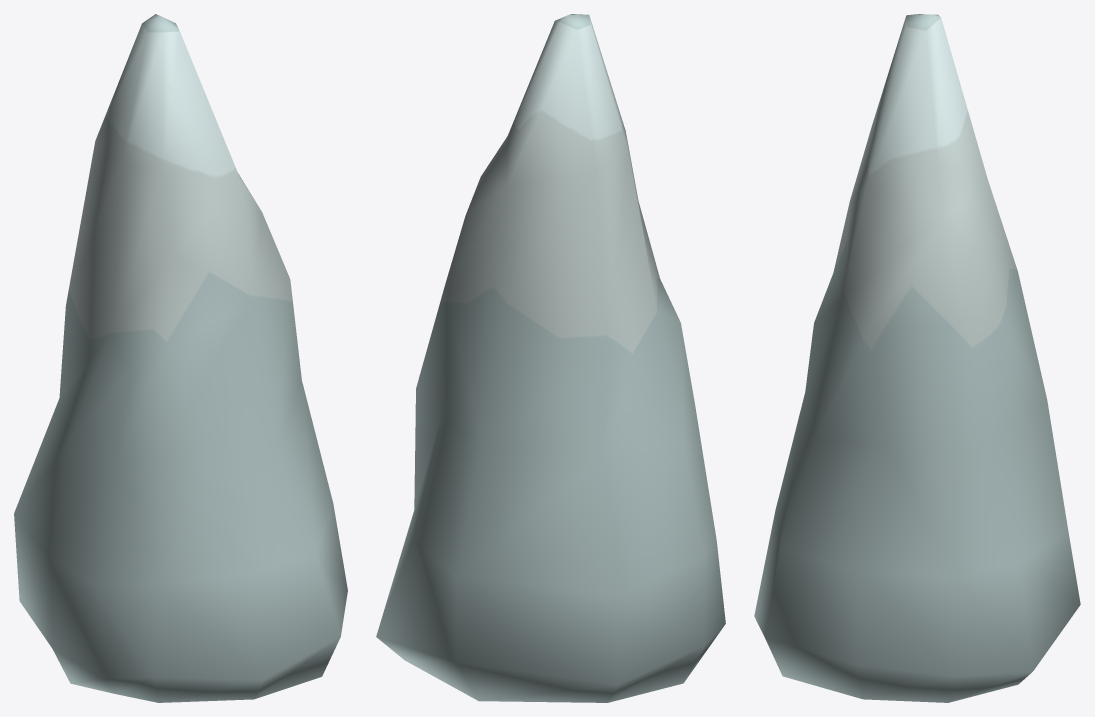
The model's file is Obj_IcePointy.fbx.
The picture shows the model from 3 angles, left to right: view 1: azimuth 30°, elevation 25°; view 2: azimuth 150°, elevation 25°; view 3: azimuth 270°, elevation 25°; orthographic projection. The views are drawn at different scales.
Visible parts, largest first — view 1: obj_pointy; view 2: obj_pointy; view 3: obj_pointy.
Part boxes in pixels (x1,y1,x2,y2): obj_pointy: (14,14,347,702); obj_pointy: (376,14,725,702); obj_pointy: (754,14,1080,702).
Size of the model in its own units: 155 by 355 by 163.
Materials: 1 (1 with a texture image).
